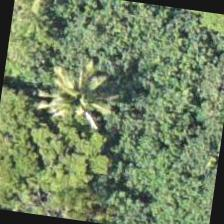Kelapa_Sawit: (30, 69, 132, 170)
